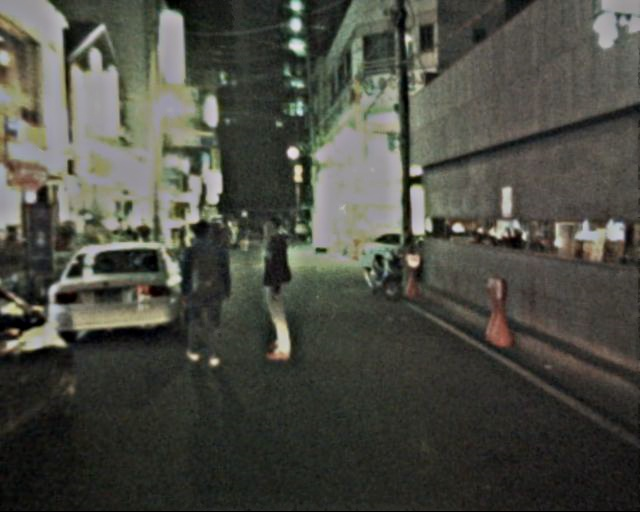person: (245, 214, 307, 364), (176, 221, 235, 366)
